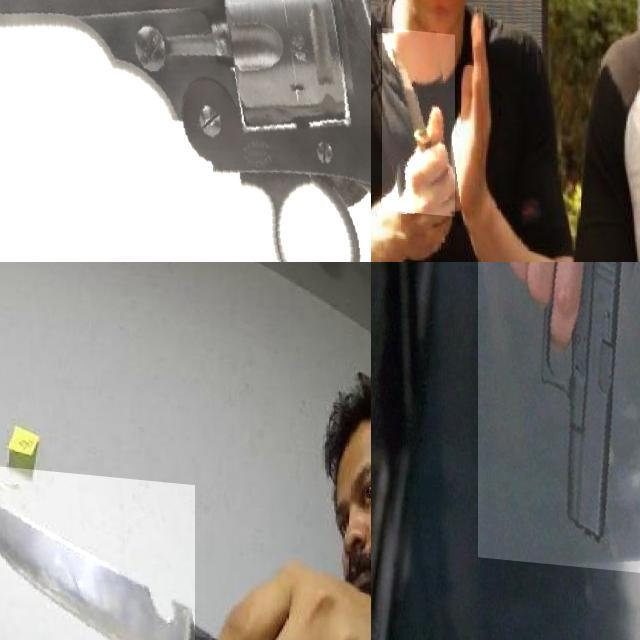-: (0, 461, 195, 640), (382, 25, 455, 214)
gun-knife-thesis - v11 Yolov5 augmented: (0, 0, 371, 262), (478, 262, 640, 569)
